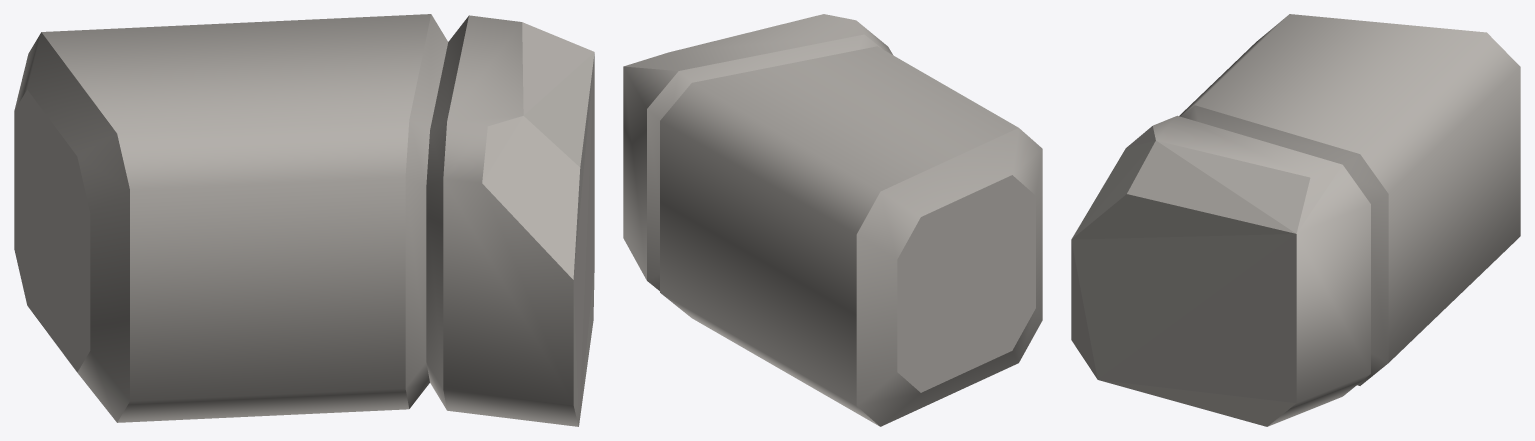
Rendered from Arch 03.FBX.
The picture shows the model from 3 angles, left to right: view 1: azimuth 30°, elevation 25°; view 2: azimuth 150°, elevation 25°; view 3: azimuth 270°, elevation 25°; orthographic projection. The views are drawn at different scales.
Parts seen in each view (by area): view 1: Arch 03; view 2: Arch 03; view 3: Arch 03.
Part boxes in pixels (left/top/right/bottom): Arch 03: left=14, top=14, right=594, bottom=426; Arch 03: left=623, top=14, right=1042, bottom=426; Arch 03: left=1071, top=14, right=1520, bottom=426.
Size of the model in its own units: 136 by 74.34 by 130.
1 material, 1 textured.
